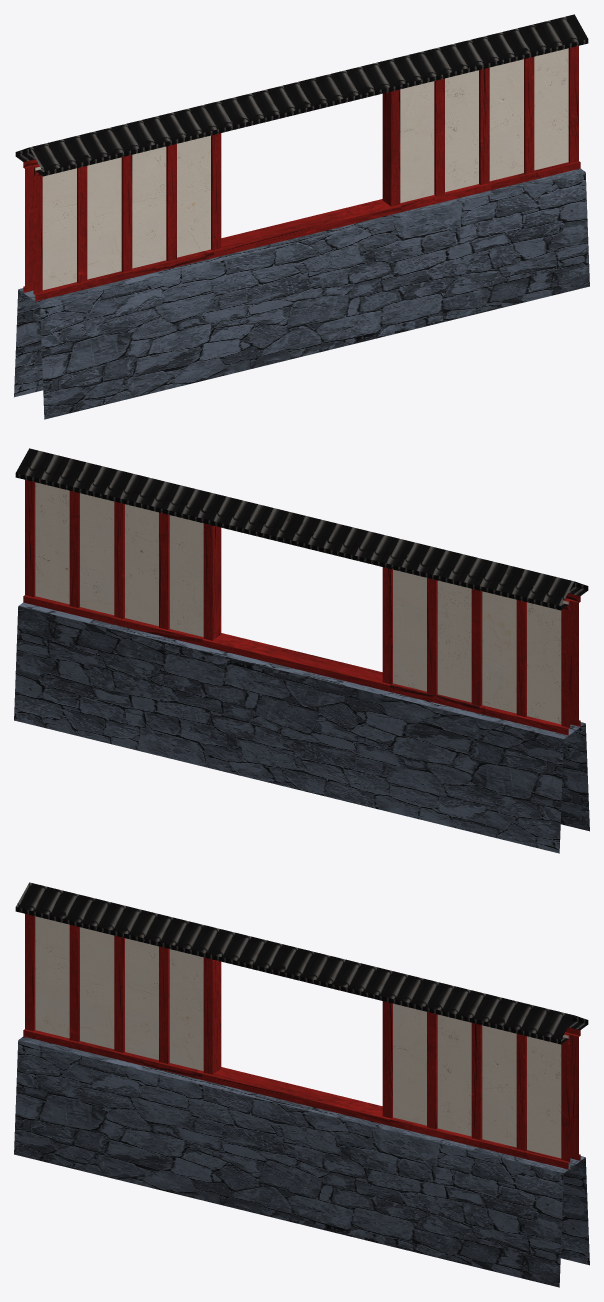
The model's file is WallMiddleJump.fbx.
3 renders of one model, top to bottom at view 1: azimuth 30°, elevation 25°; view 2: azimuth 150°, elevation 25°; view 3: azimuth 330°, elevation 25°, orthographic.
Parts seen in each view (by area): view 1: Cube_004, Cube_034, Cube_005, Cube_033; view 2: Cube_004, Cube_034, Cube_005, Cube_033; view 3: Cube_004, Cube_034, Cube_005, Cube_033.
Boxes of the visible parts, x1=… form: Cube_004: x1=14, y1=168, x2=589, y2=419; Cube_034: x1=35, y1=48, x2=568, y2=290; Cube_005: x1=23, y1=46, x2=580, y2=302; Cube_033: x1=15, y1=14, x2=588, y2=176; Cube_004: x1=14, y1=602, x2=589, y2=853; Cube_034: x1=35, y1=482, x2=568, y2=724; Cube_005: x1=23, y1=480, x2=580, y2=736; Cube_033: x1=15, y1=448, x2=588, y2=610; Cube_004: x1=14, y1=1036, x2=589, y2=1287; Cube_034: x1=35, y1=916, x2=568, y2=1158; Cube_005: x1=23, y1=914, x2=580, y2=1170; Cube_033: x1=15, y1=882, x2=588, y2=1044.
Size of the model in its own units: 1149 by 525 by 111.
